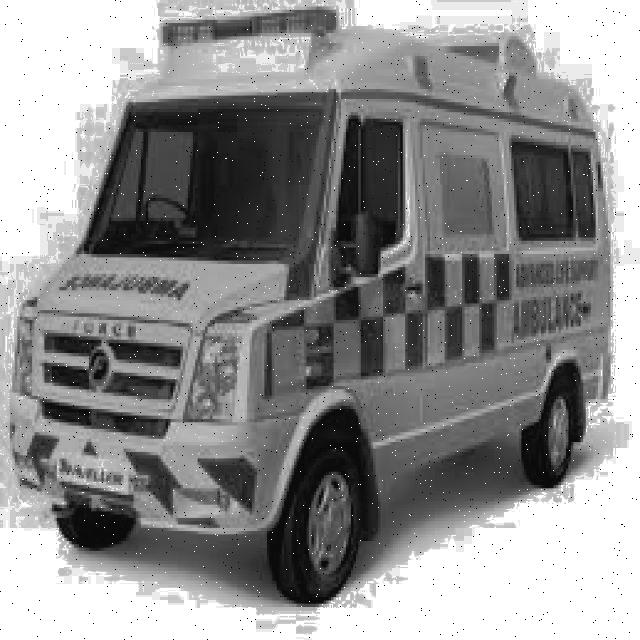LCV: (8, 2, 342, 536)
